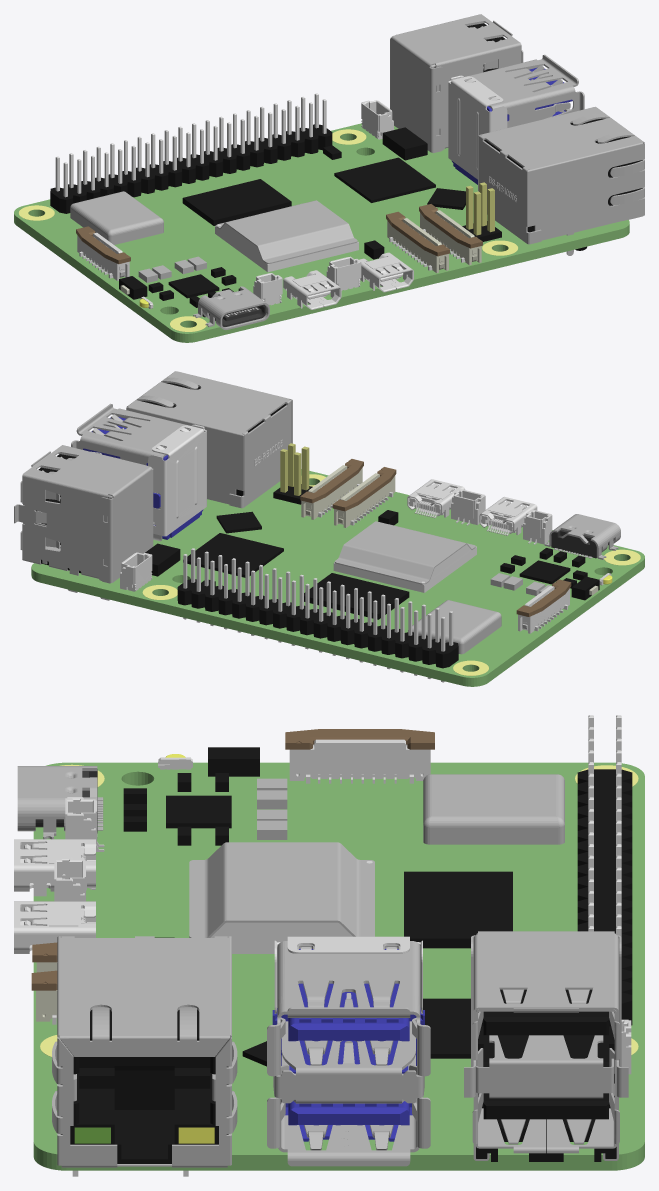
File: RaspberryPi5_4GB.glb
3 views of the same model, one above another, from view 1: azimuth 30°, elevation 25°; view 2: azimuth 150°, elevation 25°; view 3: azimuth 270°, elevation 25° (orthographic). The views are drawn at different scales.
Parts seen in each view (by area): view 1: MainBoard, 3MFMeshParent_17, 3MFMeshParent_363, BCM2712 processor, Black_Base, 3MFMeshParent_24, 3MFMeshParent_179, Dual-band WiFI and Bluetooth, 3MFMeshParent_28, Raspberry Pi RP1 I/O controller, CAM/DISPLAY 1, CAM/DISPLAY 0 (+13 smaller); view 2: MainBoard, 3MFMeshParent_363, 3MFMeshParent_17, Black_Base, BCM2712 processor, 3MFMeshParent_179, 3MFMeshParent_24, Dual-band WiFI and Bluetooth, Raspberry Pi RP1 I/O controller, CAM/DISPLAY 1, 3MFMeshParent_28, CAM/DISPLAY 0 (+14 smaller); view 3: MainBoard, 3MFMeshParent_17, 3MFMeshParent_24, BCM2712 processor, 3MFMeshParent_25, 3MFMeshParent_23, 3MFMeshParent_363, Dual-band WiFI and Bluetooth, 3MFMeshParent_180, Black_Base, 3MFMeshParent_287, 3MFMeshParent_362 (+14 smaller).
Part boxes in pixels (bbox=[...]): MainBoard: bbox=[14, 123, 629, 342]; 3MFMeshParent_17: bbox=[478, 106, 644, 255]; 3MFMeshParent_363: bbox=[390, 14, 521, 153]; BCM2712 processor: bbox=[215, 200, 358, 272]; Black_Base: bbox=[50, 124, 332, 213]; 3MFMeshParent_24: bbox=[463, 54, 584, 127]; 3MFMeshParent_179: bbox=[448, 75, 507, 179]; Dual-band WiFI and Bluetooth: bbox=[70, 191, 163, 244]; 3MFMeshParent_28: bbox=[182, 179, 291, 225]; Raspberry Pi RP1 I/O controller: bbox=[334, 157, 435, 202]; CAM/DISPLAY 1: bbox=[386, 211, 449, 273]; CAM/DISPLAY 0: bbox=[419, 204, 482, 265]; MainBoard: bbox=[31, 469, 644, 686]; 3MFMeshParent_363: bbox=[14, 445, 153, 600]; 3MFMeshParent_17: bbox=[126, 371, 292, 508]; Black_Base: bbox=[177, 579, 458, 668]; BCM2712 processor: bbox=[333, 521, 476, 592]; 3MFMeshParent_179: bbox=[148, 424, 206, 536]; 3MFMeshParent_24: bbox=[71, 403, 201, 541]; Dual-band WiFI and Bluetooth: bbox=[408, 600, 501, 654]; Raspberry Pi RP1 I/O controller: bbox=[183, 533, 283, 577]; CAM/DISPLAY 1: bbox=[332, 467, 396, 527]; 3MFMeshParent_28: bbox=[304, 573, 409, 619]; CAM/DISPLAY 0: bbox=[300, 459, 363, 519]; MainBoard: bbox=[33, 762, 644, 1170]; 3MFMeshParent_17: bbox=[52, 936, 237, 1167]; 3MFMeshParent_24: bbox=[267, 941, 430, 1166]; BCM2712 processor: bbox=[189, 842, 374, 953]; 3MFMeshParent_25: bbox=[472, 933, 619, 1153]; 3MFMeshParent_23: bbox=[60, 1010, 228, 1163]; 3MFMeshParent_363: bbox=[464, 931, 628, 1160]; Dual-band WiFI and Bluetooth: bbox=[423, 774, 564, 844]; 3MFMeshParent_180: bbox=[476, 989, 616, 1161]; Black_Base: bbox=[577, 769, 632, 1025]; 3MFMeshParent_287: bbox=[273, 1021, 424, 1103]; 3MFMeshParent_362: bbox=[272, 948, 424, 1141].
Size of the model in its own units: 0.0877 by 0.02 by 0.0577.
